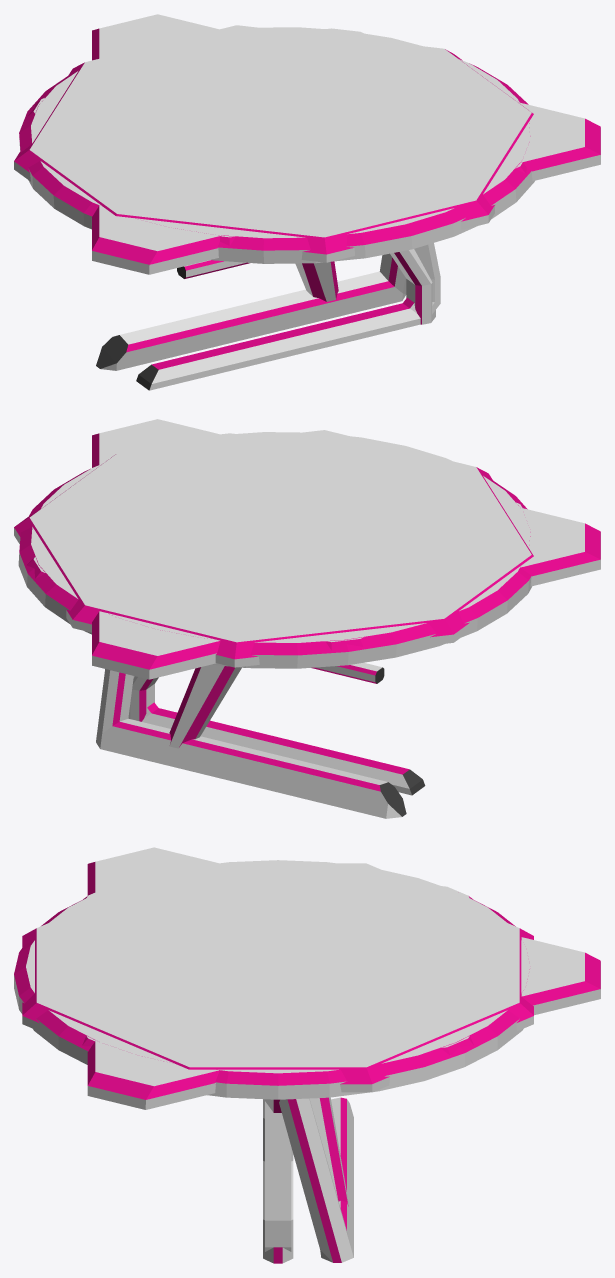
The model's file is Tabales.fbx.
3 renders of one model, top to bottom at view 1: azimuth 30°, elevation 25°; view 2: azimuth 150°, elevation 25°; view 3: azimuth 270°, elevation 25°, orthographic.
Visible parts, largest first — view 1: Base_4, Base_1, Base_3, Cube.006, Leg_a.001, Leg_a, Leg, Leg_b.001, Leg_b, Cube.002; view 2: Base_4, Base_1, Base_3, Cube.006, Leg_a.001, Leg, Cube.002, Leg_a, Leg_b; view 3: Base_4, Base_1, Base_3, Cube.002, Leg_b.001, Cube.006, Leg, Leg_a.
Part boxes in pixels (bbox=[...]): Base_4: bbox=[14, 25, 533, 262]; Base_1: bbox=[19, 27, 534, 263]; Base_3: bbox=[92, 14, 600, 274]; Cube.006: bbox=[96, 271, 406, 370]; Leg_a.001: bbox=[136, 303, 420, 390]; Leg_a: bbox=[390, 249, 435, 324]; Leg: bbox=[295, 261, 338, 301]; Leg_b.001: bbox=[403, 243, 440, 314]; Leg_b: bbox=[177, 260, 249, 278]; Cube.002: bbox=[379, 253, 406, 293]; Base_4: bbox=[14, 430, 533, 667]; Base_1: bbox=[18, 432, 531, 668]; Base_3: bbox=[92, 419, 600, 679]; Cube.006: bbox=[96, 718, 406, 818]; Leg_a.001: bbox=[142, 708, 425, 795]; Leg: bbox=[169, 664, 241, 748]; Cube.002: bbox=[96, 669, 133, 741]; Leg_a: bbox=[129, 676, 158, 721]; Leg_b: bbox=[311, 662, 384, 683]; Base_4: bbox=[22, 863, 533, 1092]; Base_1: bbox=[14, 860, 530, 1099]; Base_3: bbox=[87, 847, 600, 1109]; Cube.002: bbox=[279, 1098, 349, 1262]; Leg_b.001: bbox=[265, 1101, 291, 1251]; Cube.006: bbox=[320, 1097, 353, 1262]; Leg: bbox=[309, 1097, 348, 1206]; Leg_a: bbox=[263, 1099, 293, 1263].
Bounding box in the file's own units: 289 × 120 × 287.
